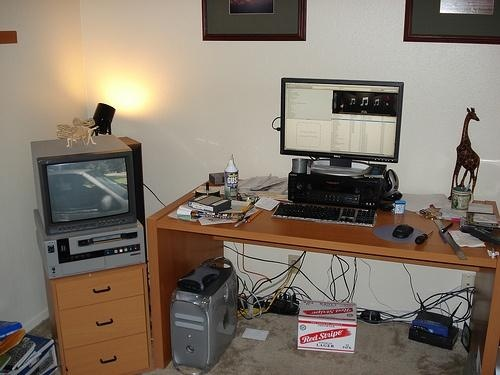tvmonitor: (281, 78, 405, 179), (31, 134, 139, 237)
